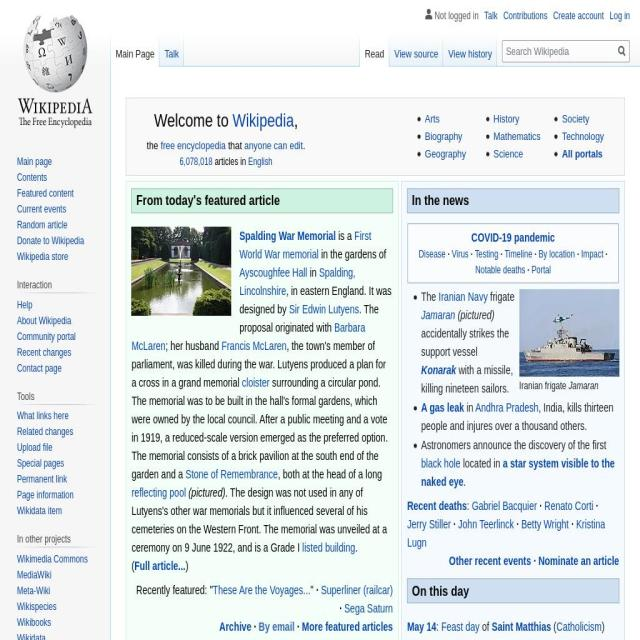button: (388, 33, 444, 67), (443, 33, 498, 67), (111, 33, 160, 67), (360, 33, 390, 67), (160, 33, 184, 67)
field: (502, 40, 630, 63), (614, 41, 630, 62), (614, 41, 630, 62)
heading: (0, 10, 113, 640), (136, 193, 281, 209), (17, 278, 99, 291), (17, 533, 99, 546), (17, 390, 99, 402), (412, 193, 470, 209), (412, 583, 470, 599)
image: (0, 0, 640, 67), (5, 0, 105, 133), (131, 226, 232, 316), (519, 289, 619, 378)
link: (131, 321, 366, 353), (407, 518, 606, 550), (420, 457, 614, 489), (239, 229, 371, 262), (238, 266, 356, 298), (232, 108, 294, 131), (212, 584, 312, 598), (238, 229, 336, 243), (185, 468, 278, 482), (302, 620, 394, 634), (471, 231, 556, 245), (449, 554, 532, 568), (538, 554, 620, 568), (321, 584, 394, 598), (238, 266, 308, 280), (289, 302, 359, 316), (17, 553, 89, 566), (222, 339, 288, 353), (471, 499, 537, 513), (475, 400, 539, 414), (17, 234, 85, 247), (407, 499, 467, 513), (491, 619, 551, 633), (244, 138, 303, 152), (131, 486, 187, 500), (458, 518, 514, 532), (302, 541, 355, 555), (134, 559, 187, 573), (17, 489, 74, 502), (17, 314, 72, 327), (17, 330, 76, 342), (438, 289, 488, 303), (177, 138, 226, 152), (344, 602, 393, 616), (544, 499, 593, 513), (17, 187, 74, 199), (17, 426, 74, 438), (521, 518, 569, 532), (475, 264, 526, 277), (17, 218, 68, 231), (17, 346, 72, 358), (17, 473, 67, 486), (556, 619, 602, 633), (493, 130, 541, 143), (552, 10, 604, 22), (17, 250, 69, 262), (17, 410, 69, 422), (420, 400, 464, 414), (407, 518, 451, 532), (17, 203, 67, 215), (424, 147, 466, 161), (17, 458, 65, 470), (562, 147, 603, 161), (420, 457, 460, 471), (440, 619, 480, 633), (562, 130, 604, 143), (503, 10, 548, 22), (17, 362, 62, 374), (17, 505, 62, 517), (421, 362, 456, 377), (258, 620, 294, 634), (424, 130, 462, 143), (538, 248, 575, 261), (17, 601, 57, 613), (421, 308, 455, 322), (17, 569, 52, 582), (219, 620, 251, 634), (17, 442, 53, 454), (493, 147, 523, 161), (407, 619, 437, 633), (17, 155, 52, 167), (17, 617, 52, 629), (179, 155, 213, 167), (17, 585, 51, 597), (242, 376, 270, 390), (504, 248, 534, 261), (562, 112, 590, 125), (418, 248, 446, 261), (17, 171, 47, 183), (493, 112, 519, 125), (474, 248, 498, 261), (248, 155, 272, 167), (581, 248, 603, 261), (531, 264, 551, 277), (610, 10, 630, 22), (451, 248, 469, 261), (17, 632, 46, 640), (160, 138, 175, 152), (424, 112, 440, 125), (17, 298, 33, 311), (483, 10, 498, 22)
text: (131, 376, 389, 482), (131, 486, 387, 555), (132, 339, 386, 390), (131, 541, 358, 573), (421, 400, 613, 432), (239, 284, 391, 317), (239, 303, 379, 335), (421, 363, 513, 395), (420, 326, 510, 358), (421, 438, 606, 452), (154, 108, 233, 131), (277, 468, 382, 482), (136, 584, 210, 598), (318, 248, 386, 262), (424, 5, 479, 22), (165, 339, 221, 353), (460, 457, 503, 471), (519, 380, 569, 392), (188, 486, 226, 500), (457, 308, 495, 322), (212, 155, 248, 167), (487, 289, 515, 303), (568, 380, 599, 392), (226, 138, 245, 152), (336, 229, 355, 243), (421, 289, 438, 303), (146, 138, 161, 152), (307, 266, 319, 280), (480, 619, 492, 633), (464, 400, 475, 414), (294, 108, 298, 131), (436, 619, 442, 633), (467, 499, 472, 513), (551, 619, 556, 633), (209, 584, 213, 598), (310, 584, 314, 598), (185, 559, 188, 573), (463, 475, 466, 489), (303, 138, 305, 152), (602, 619, 604, 633)
